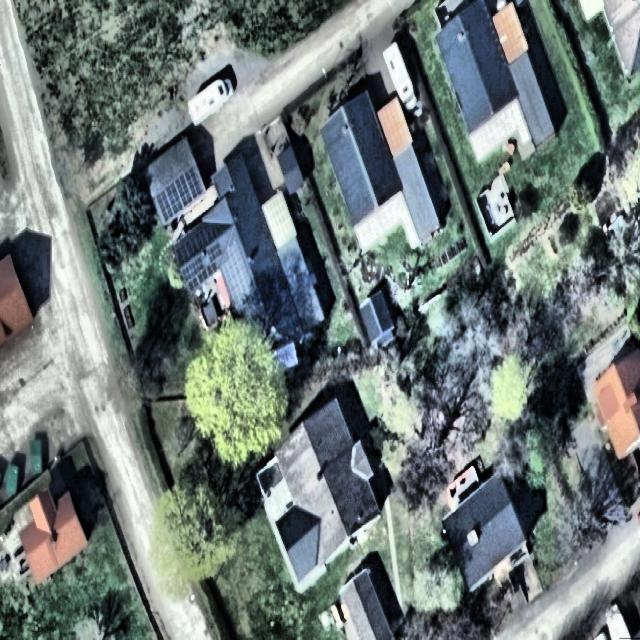roof_pv: (154, 169, 205, 224), (218, 238, 253, 310), (172, 219, 217, 262), (186, 241, 221, 290)
